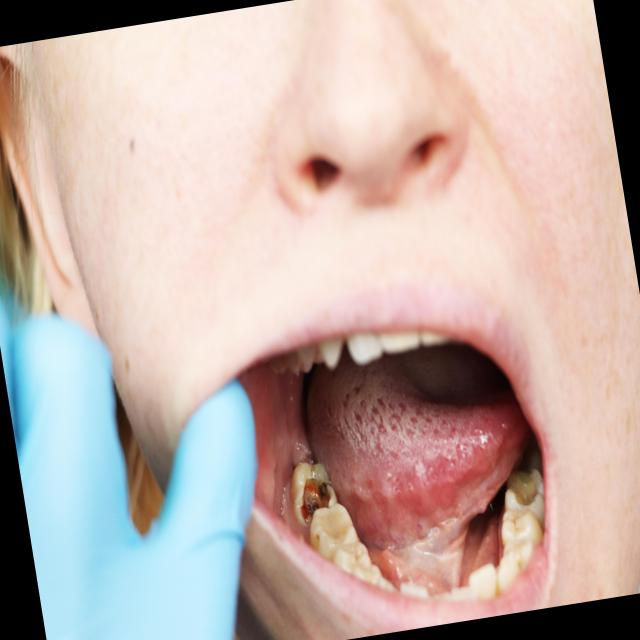Caries: (300, 476, 331, 527), (308, 501, 319, 517), (319, 488, 325, 499), (324, 483, 327, 490)
Cavity: (507, 475, 539, 505)
Tooth: (290, 463, 338, 528), (310, 503, 360, 557), (505, 469, 544, 522), (502, 507, 543, 545), (333, 541, 372, 571), (469, 563, 496, 597), (504, 533, 533, 563), (498, 552, 519, 590)
